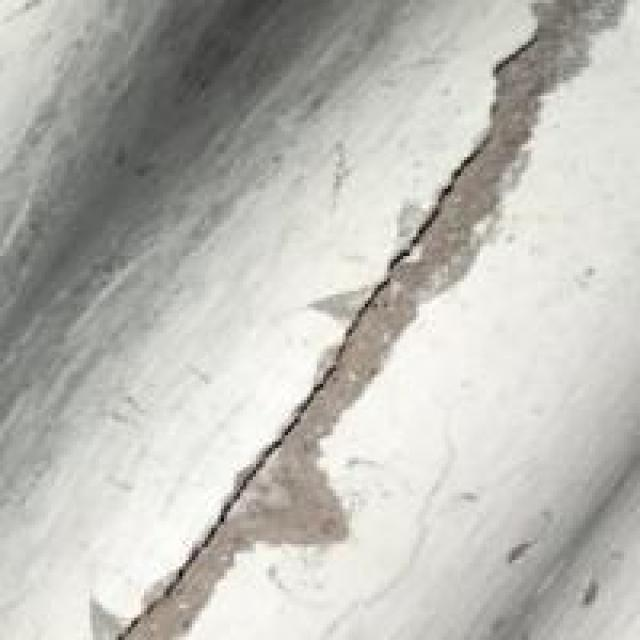Crack: (150, 0, 560, 637)
